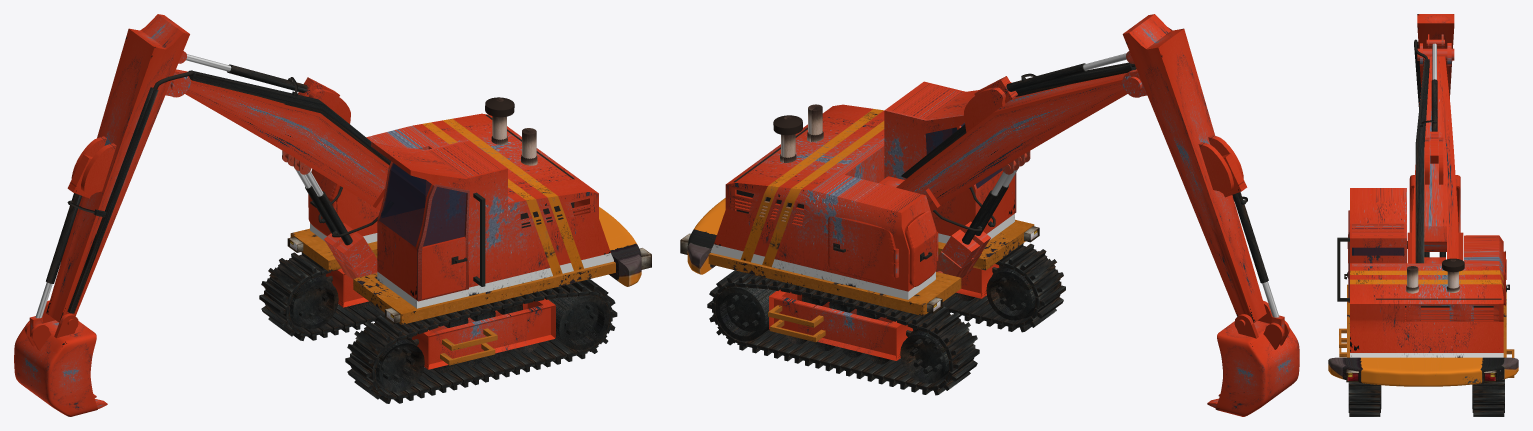
File: excavator_03.glb
3 renders of one model, left to right at view 1: azimuth 30°, elevation 25°; view 2: azimuth 150°, elevation 25°; view 3: azimuth 270°, elevation 25°, orthographic. The views are drawn at different scales.
Parts seen in each view (by area): view 1: Object_12, Object_24, Object_22, Object_17, Object_11, Object_3, Object_25, Object_5, Object_23, Object_4, Object_20, Object_10 (+5 smaller); view 2: Object_12, Object_24, Object_22, Object_17, Object_11, Object_14, Object_25, Object_5, Object_23, Object_15, Object_20, Object_4 (+6 smaller); view 3: Object_12, Object_4, Object_24, Object_25, Object_11, Object_10, Object_5, Object_17, Object_13, Object_19, Object_3, Object_20 (+2 smaller).
Boxes of the visible parts, x1,y1,x2,y2 form: Object_12: (14, 14, 610, 416); Object_24: (67, 71, 617, 403); Object_22: (289, 275, 609, 392); Object_17: (290, 228, 615, 365); Object_11: (25, 51, 377, 350); Object_3: (379, 163, 466, 246); Object_25: (422, 118, 583, 275); Object_5: (310, 223, 613, 308); Object_23: (46, 193, 538, 373); Object_4: (599, 207, 641, 286); Object_20: (227, 64, 352, 245); Object_10: (485, 97, 537, 165); Object_12: (714, 14, 1299, 416); Object_24: (707, 62, 1234, 395); Object_22: (715, 266, 1035, 383); Object_17: (708, 219, 1034, 342); Object_11: (894, 53, 1289, 349); Object_14: (828, 216, 895, 284); Object_25: (740, 109, 884, 267); Object_5: (710, 213, 1014, 299); Object_23: (786, 192, 1268, 364); Object_15: (904, 211, 936, 286); Object_20: (962, 63, 1087, 244); Object_4: (687, 198, 725, 274); Object_12: (1348, 14, 1503, 352); Object_4: (1328, 357, 1518, 386); Object_24: (1337, 41, 1504, 416); Object_25: (1350, 270, 1503, 288); Object_11: (1417, 34, 1506, 279); Object_10: (1406, 258, 1464, 293); Object_5: (1350, 353, 1503, 357); Object_17: (1339, 284, 1514, 377); Object_13: (1405, 303, 1503, 321); Object_19: (1344, 39, 1509, 307); Object_3: (1352, 247, 1404, 255); Object_20: (1424, 79, 1445, 257).
Size of the model in its own units: 16.62 by 10.53 by 6.69.
Materials: 16 (16 with a texture image).
